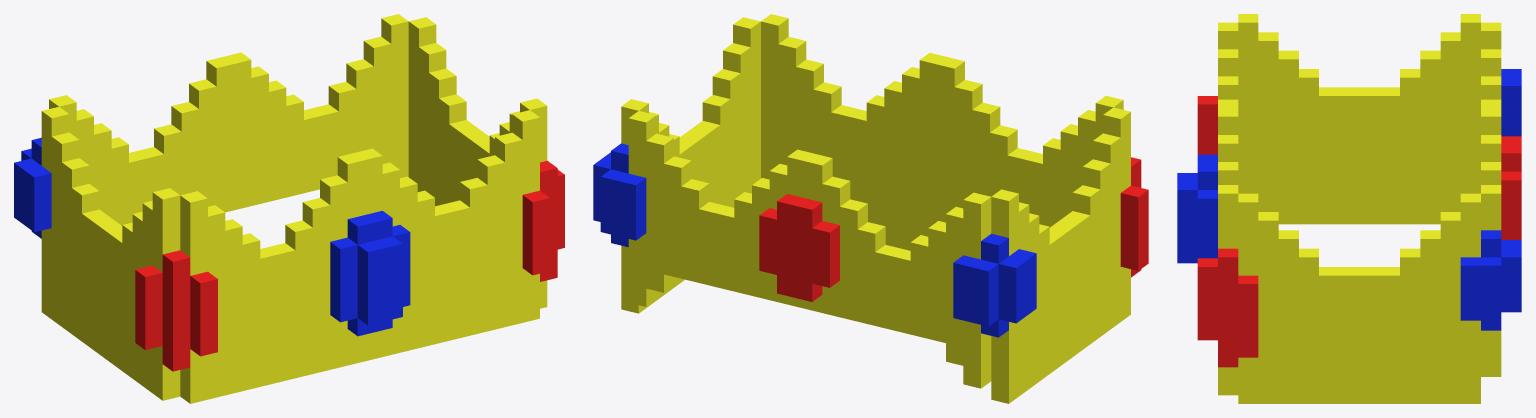
File: Perrigie-0.obj
The picture shows the model from 3 angles, left to right: view 1: azimuth 30°, elevation 25°; view 2: azimuth 150°, elevation 25°; view 3: azimuth 270°, elevation 25°; orthographic projection.
Size of the model in its own units: 2.4 by 1.1 by 1.7.
1 material, 1 textured.
